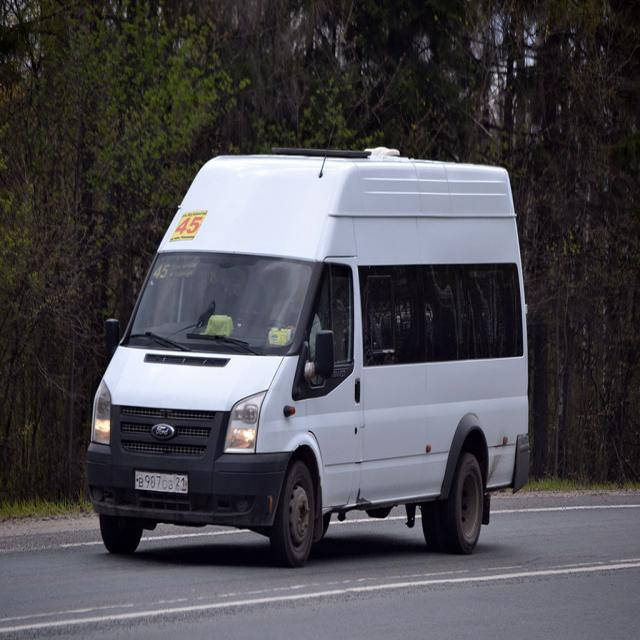number-of-bus: (175, 213, 214, 242)
